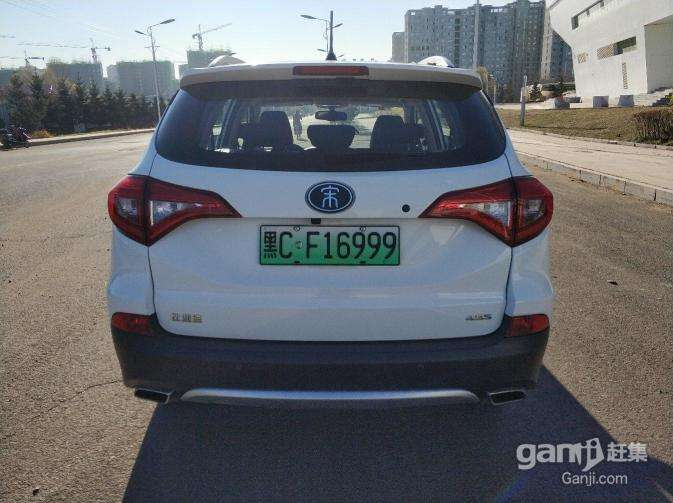plate: (251, 214, 411, 278)
